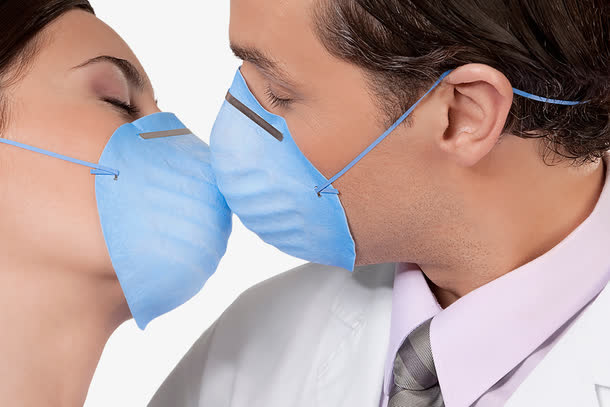mask: (64, 42, 474, 352)
